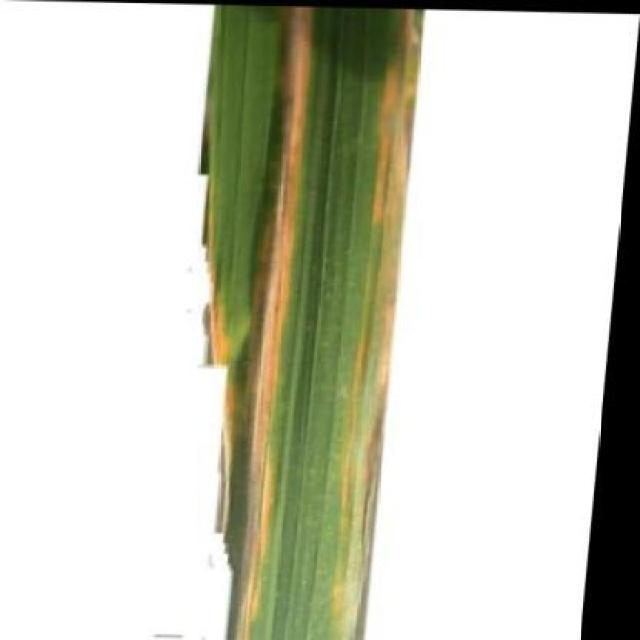Brown_Spot: (163, 3, 434, 640)
